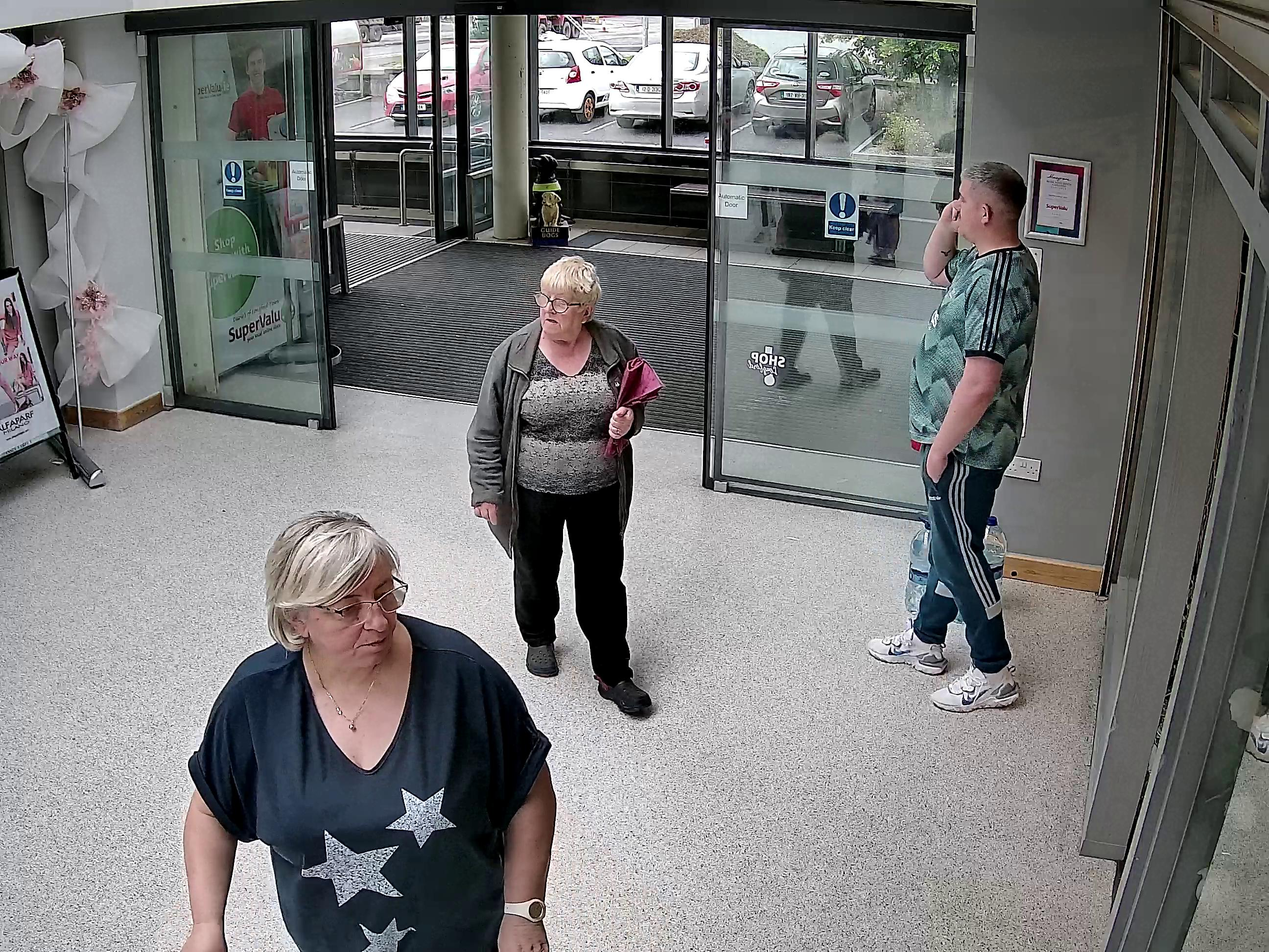empty-shopping-bags: (604, 356, 665, 457)
person: (466, 256, 651, 718)
person-with-empty-shopping-bag-s-: (466, 255, 665, 715)
